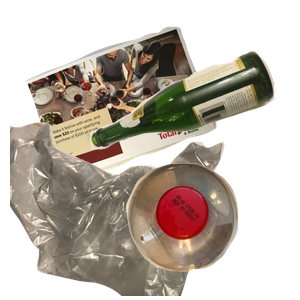glass: (87, 48, 300, 190)
paper: (23, 24, 232, 199)
plastic: (124, 161, 300, 300)
trash: (10, 120, 231, 300)
